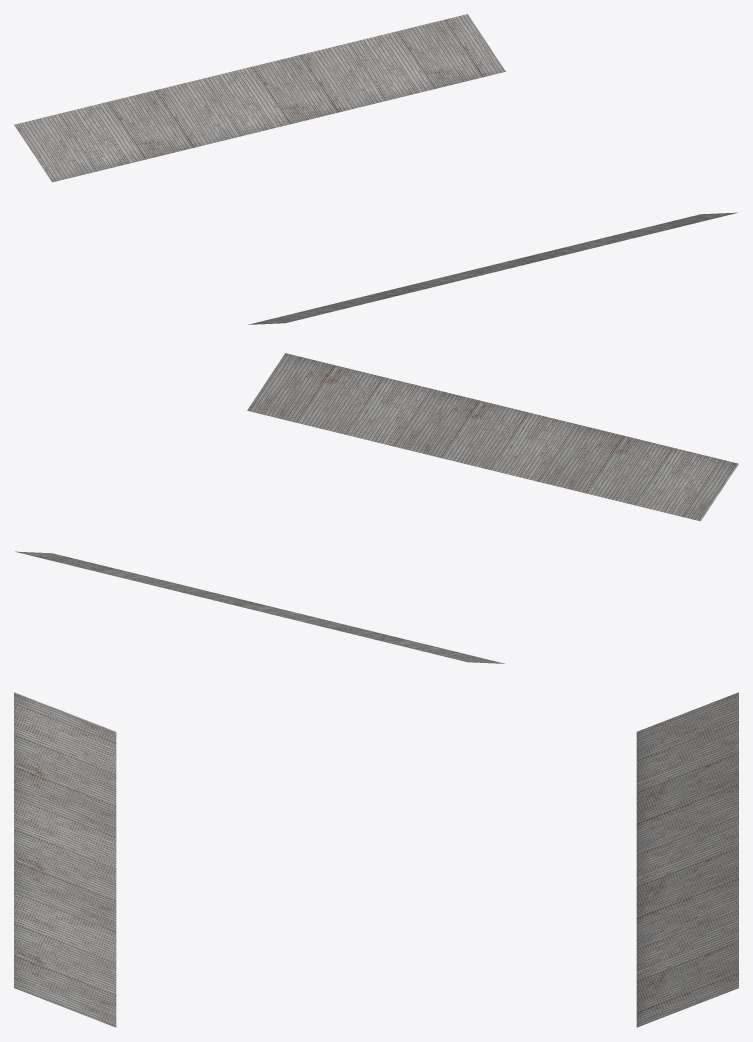
The model's file is SM_LDFest_11_Tole_00.fbx.
3 renders of one model, top to bottom at view 1: azimuth 30°, elevation 25°; view 2: azimuth 150°, elevation 25°; view 3: azimuth 270°, elevation 25°, orthographic. The views are drawn at different scales.
Visible parts, largest first — view 1: SM_LDFest_11_Tole_00; view 2: SM_LDFest_11_Tole_00; view 3: SM_LDFest_11_Tole_00.
Part boxes in pixels (x1,y1,x2,y2): SM_LDFest_11_Tole_00: (14, 14, 737, 324); SM_LDFest_11_Tole_00: (15, 353, 738, 663); SM_LDFest_11_Tole_00: (14, 692, 738, 1027).
Size of the model in its own units: 3573 by 223 by 3700.
